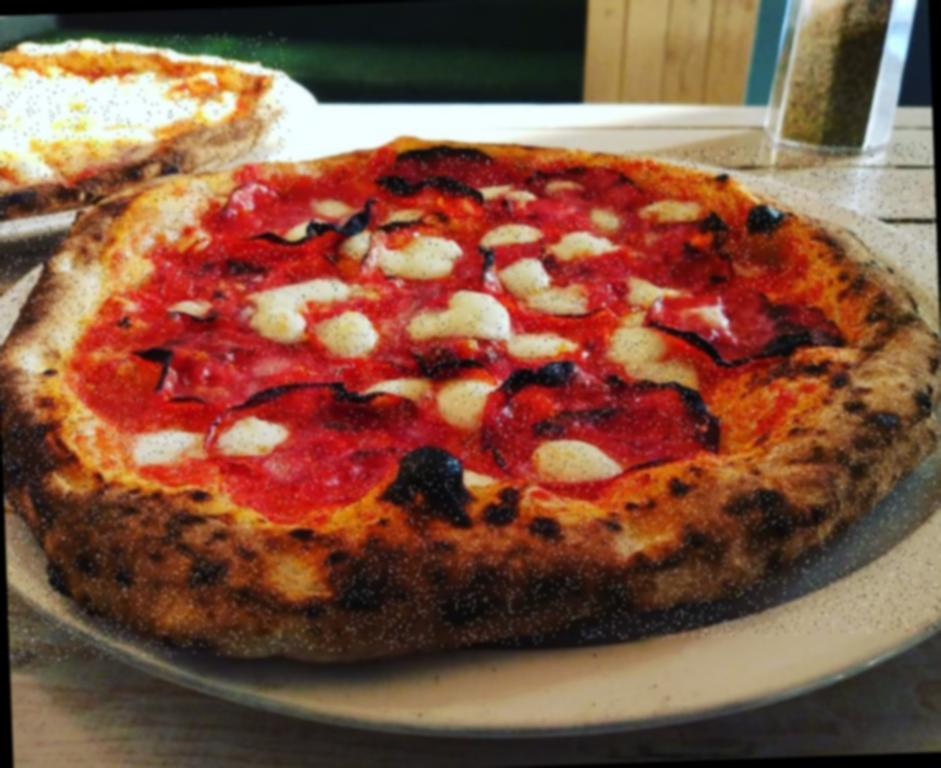Cheese: (0, 74, 152, 144), (144, 423, 274, 460), (410, 298, 514, 340), (258, 282, 334, 336), (626, 282, 666, 374), (508, 265, 576, 311), (381, 240, 450, 280), (539, 445, 602, 481), (508, 336, 578, 362), (446, 389, 494, 425), (324, 318, 370, 351), (562, 234, 602, 260), (488, 230, 534, 243), (290, 220, 322, 237)
Ham: (488, 366, 719, 484), (217, 382, 457, 470), (651, 288, 847, 360), (139, 292, 250, 408), (220, 186, 374, 244), (631, 214, 730, 286), (378, 148, 497, 196), (529, 173, 635, 215)
Pizza: (0, 141, 941, 663), (0, 31, 293, 218)
